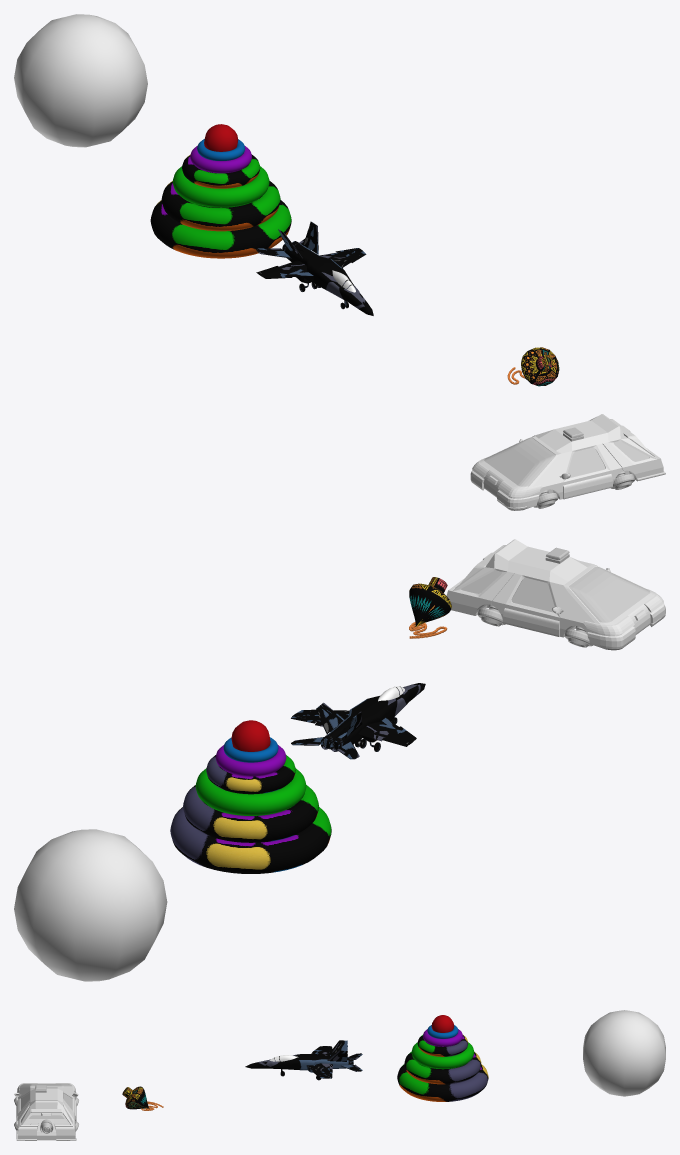
The model's file is Juguetes Unificado.fbx.
3 views of the same model, one above another, from view 1: azimuth 30°, elevation 25°; view 2: azimuth 150°, elevation 25°; view 3: azimuth 270°, elevation 25° (orthographic). The views are drawn at different scales.
Parts seen in each view (by area): view 1: Sphere.001, Sphere, Cylinder.061, Cube.002, Cube.005; view 2: Sphere.001, Sphere, Cylinder.061, Cube.002, Cube.005; view 3: Sphere.001, Sphere, Cylinder.061, Cube.002, Cube.005.
Part boxes in pixels (<box>): Sphere.001: <box>14,14,147,147</box>; Sphere: <box>150,124,291,258</box>; Cylinder.061: <box>470,414,665,510</box>; Cube.002: <box>256,221,373,315</box>; Cube.005: <box>521,347,559,386</box>; Sphere.001: <box>14,829,167,981</box>; Sphere: <box>170,720,331,873</box>; Cylinder.061: <box>446,539,665,650</box>; Cube.002: <box>291,683,425,759</box>; Cube.005: <box>409,577,451,626</box>; Sphere.001: <box>583,1010,665,1096</box>; Sphere: <box>397,1015,488,1101</box>; Cylinder.061: <box>14,1083,78,1140</box>; Cube.002: <box>245,1040,362,1080</box>; Cube.005: <box>122,1086,149,1109</box>.
Size of the model in its own units: 15.99 by 12.83 by 78.53.
